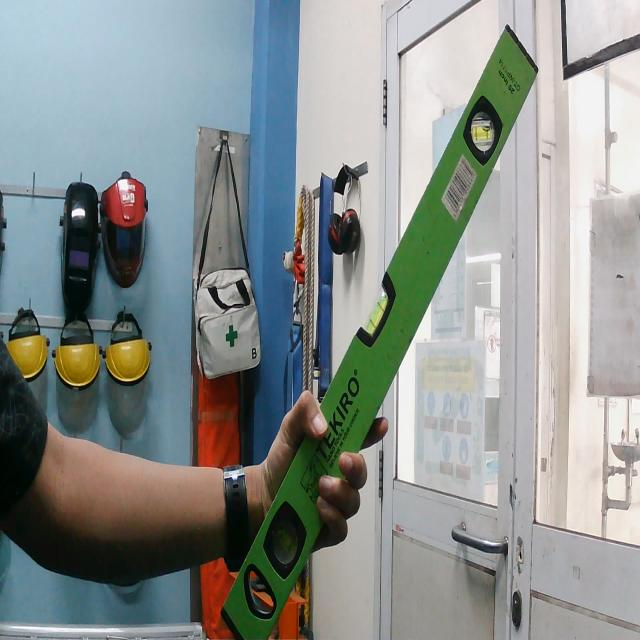water_pass: (213, 13, 548, 639)
